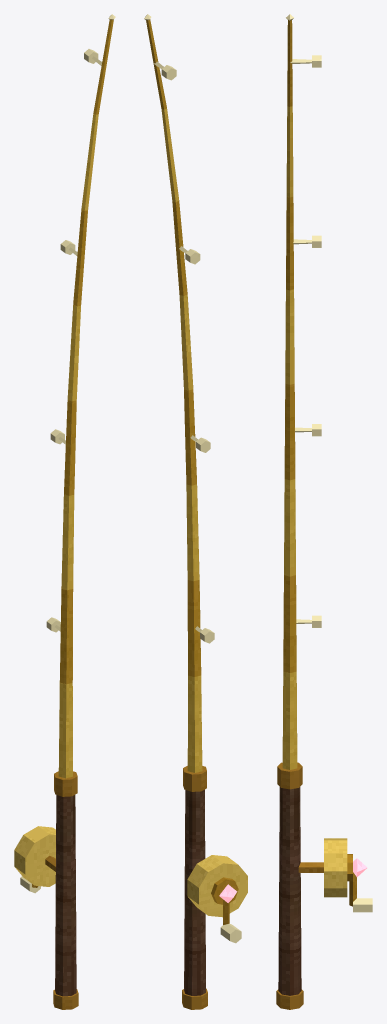
3 views of the same model, side by side, from view 1: azimuth 30°, elevation 25°; view 2: azimuth 210°, elevation 25°; view 3: azimuth 270°, elevation 25° (orthographic). The views are drawn at different scales.
Visible parts, largest first — view 1: Rod_gold; view 2: Rod_gold; view 3: Rod_gold.
Part boxes in pixels (left/top/right/bottom): Rod_gold: left=14, top=14, right=115, bottom=1009; Rod_gold: left=144, top=14, right=247, bottom=1009; Rod_gold: left=276, top=14, right=372, bottom=1009.
Size of the model in its own units: 0.1817 by 2.3 by 0.198.
8 materials, 8 textured.
